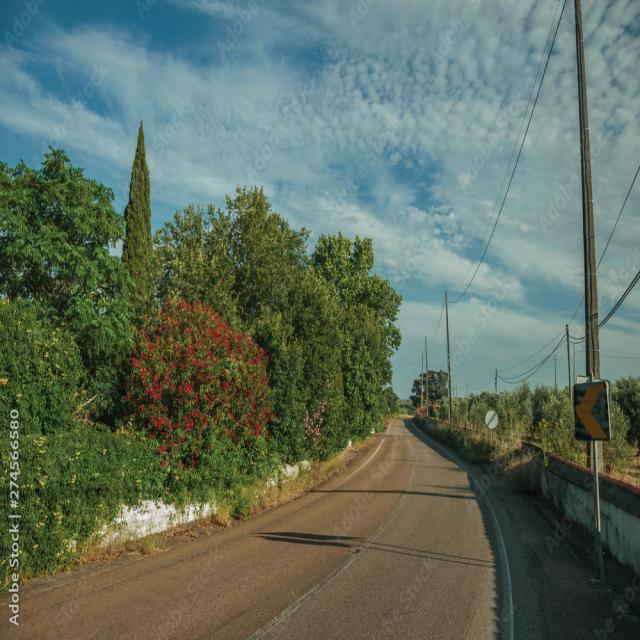Pothole: (464, 482, 556, 640)
